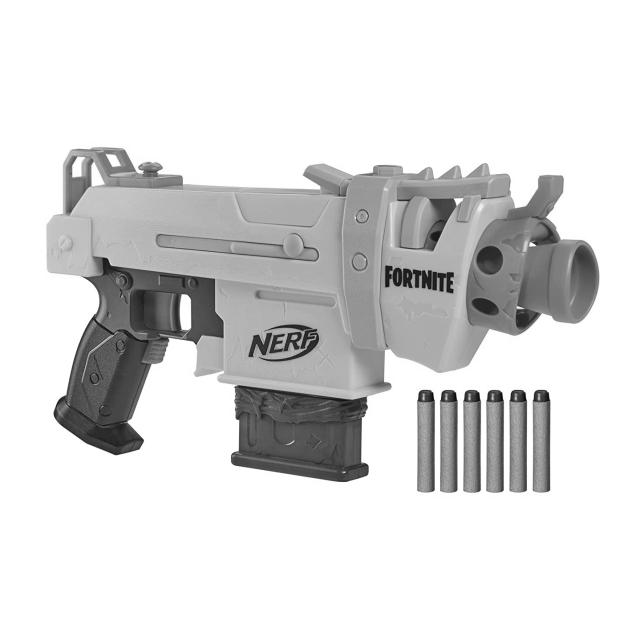Weapon: (47, 148, 597, 481)
